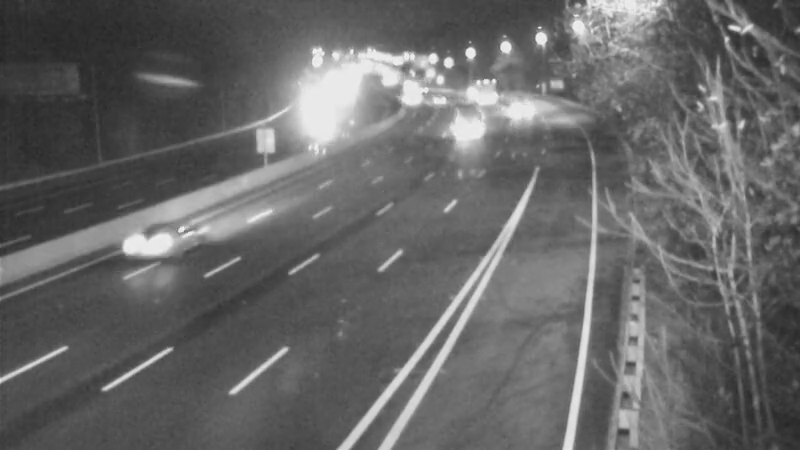vehicle: (111, 196, 191, 276), (456, 62, 506, 112), (414, 71, 464, 121), (387, 72, 437, 122), (489, 76, 539, 126), (448, 99, 498, 149), (276, 108, 326, 158)
